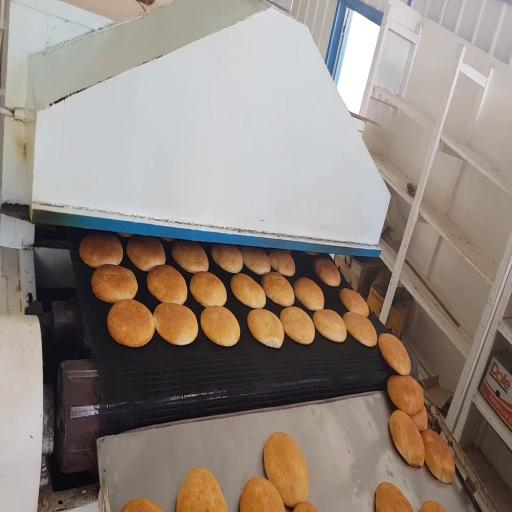bread: (264, 433, 309, 507), (107, 300, 154, 347), (176, 468, 227, 511), (389, 410, 424, 466), (154, 303, 198, 346), (421, 430, 455, 483), (91, 265, 137, 303), (201, 306, 240, 346), (147, 265, 187, 304), (79, 233, 123, 268), (240, 477, 285, 511), (387, 376, 423, 415), (248, 310, 284, 348), (379, 333, 411, 375), (127, 237, 165, 271), (190, 272, 227, 306), (280, 307, 314, 344), (231, 274, 266, 309), (343, 312, 377, 347), (172, 241, 208, 273), (262, 272, 294, 307), (313, 310, 346, 342), (376, 483, 413, 511), (294, 278, 324, 310), (211, 245, 243, 273), (240, 247, 270, 275), (340, 289, 369, 317), (268, 249, 296, 277), (314, 257, 340, 286), (122, 499, 161, 511), (411, 405, 428, 431), (420, 501, 445, 511), (294, 502, 318, 511), (118, 233, 132, 238), (160, 238, 174, 242), (305, 252, 318, 255)
